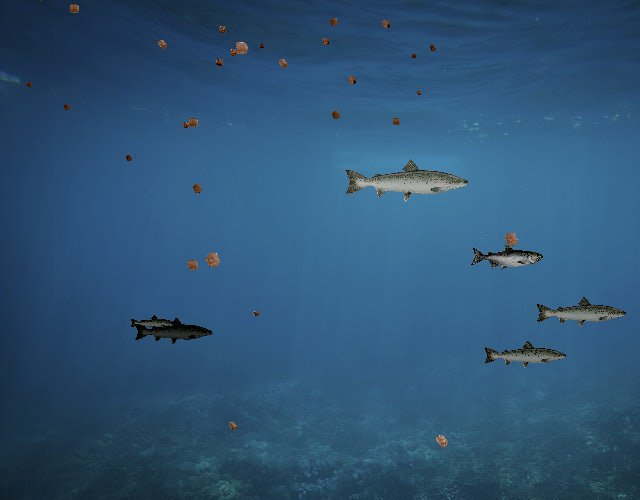Fish: (342, 157, 471, 203), (535, 295, 629, 329), (482, 339, 568, 370), (133, 316, 214, 346), (471, 244, 544, 270), (130, 315, 177, 332)
Pellet: (198, 244, 228, 274), (428, 428, 455, 455), (181, 254, 204, 277), (376, 14, 395, 33), (224, 417, 242, 435), (178, 118, 193, 133), (122, 151, 136, 165), (250, 308, 262, 320)
